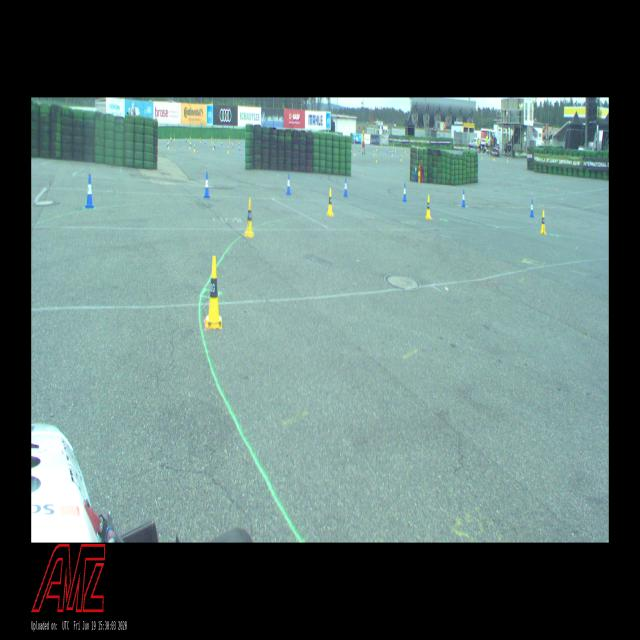blue_cone: (85, 175, 94, 208), (204, 172, 210, 197), (286, 175, 291, 194), (343, 178, 348, 196), (402, 183, 407, 201), (462, 189, 466, 207), (530, 200, 534, 216)
yellow_cone: (205, 256, 222, 328), (244, 198, 254, 237), (327, 188, 333, 215), (540, 210, 546, 234), (426, 196, 431, 218)
